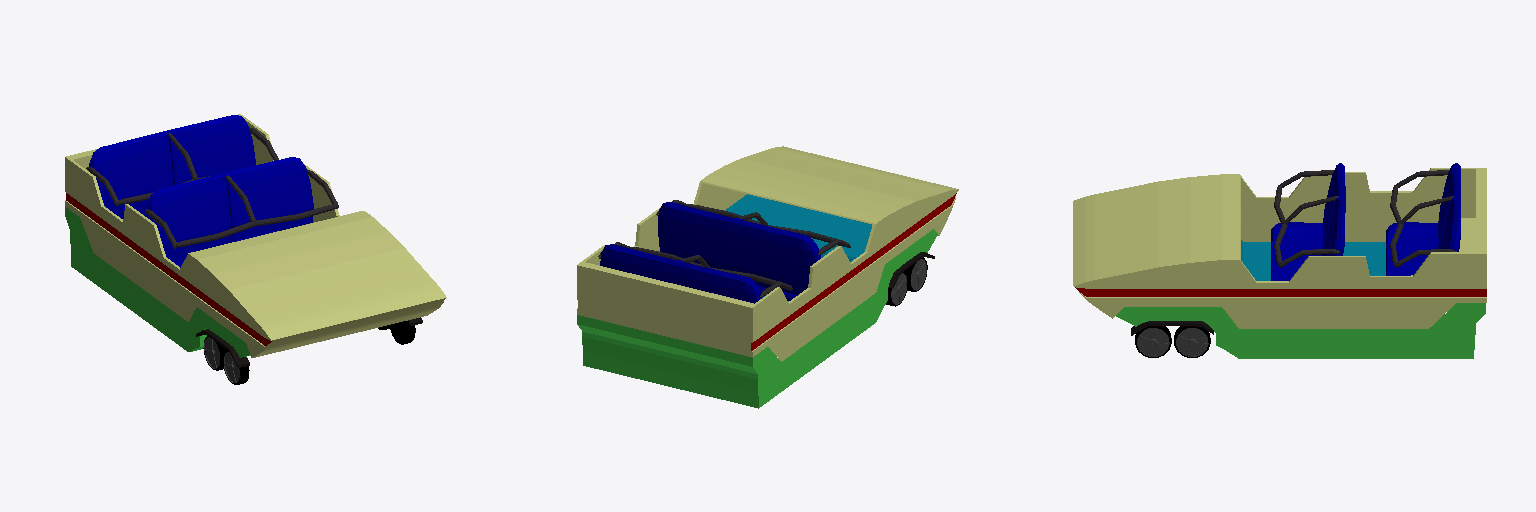
Rendered from coaster_cart.obj.
3 renders of one model, left to right at view 1: azimuth 30°, elevation 25°; view 2: azimuth 150°, elevation 25°; view 3: azimuth 270°, elevation 25°, orthographic.
Parts seen in each view (by area): view 1: Cart_Cart.002, Soportes; view 2: Cart_Cart.002, Soportes; view 3: Cart_Cart.002, Soportes.
Boxes of the visible parts, x1,y1,x2,y2 form: Cart_Cart.002: [65, 114, 446, 384]; Soportes: [86, 127, 338, 248]; Cart_Cart.002: [577, 146, 958, 408]; Soportes: [598, 200, 850, 297]; Cart_Cart.002: [1073, 163, 1486, 358]; Soportes: [1274, 170, 1456, 267].
Bounding box in the file's own units: 3.76 × 2.35 × 7.28.